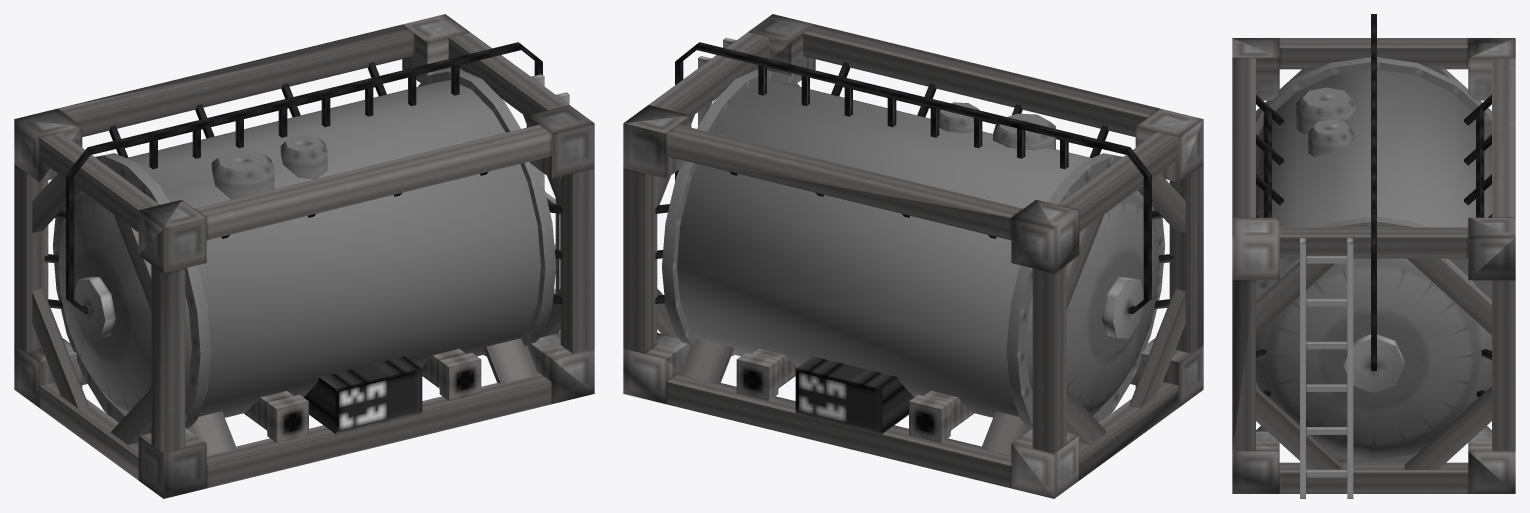
Rendered from fluid_tank.obj.
3 renders of one model, left to right at view 1: azimuth 30°, elevation 25°; view 2: azimuth 150°, elevation 25°; view 3: azimuth 270°, elevation 25°, orthographic. The views are drawn at different scales.
Visible parts, largest first — view 1: Frame, Tank; view 2: Frame, Tank; view 3: Frame, Tank.
Boxes of the visible parts, left/top/right/bottom form: Frame: left=14, top=14, right=594, bottom=498; Tank: left=53, top=69, right=555, bottom=433; Frame: left=623, top=14, right=1203, bottom=498; Tank: left=662, top=69, right=1164, bottom=433; Frame: left=1232, top=14, right=1515, bottom=498; Tank: left=1256, top=57, right=1491, bottom=462.
Size of the model in its own units: 5.5 by 3.28 by 3.
